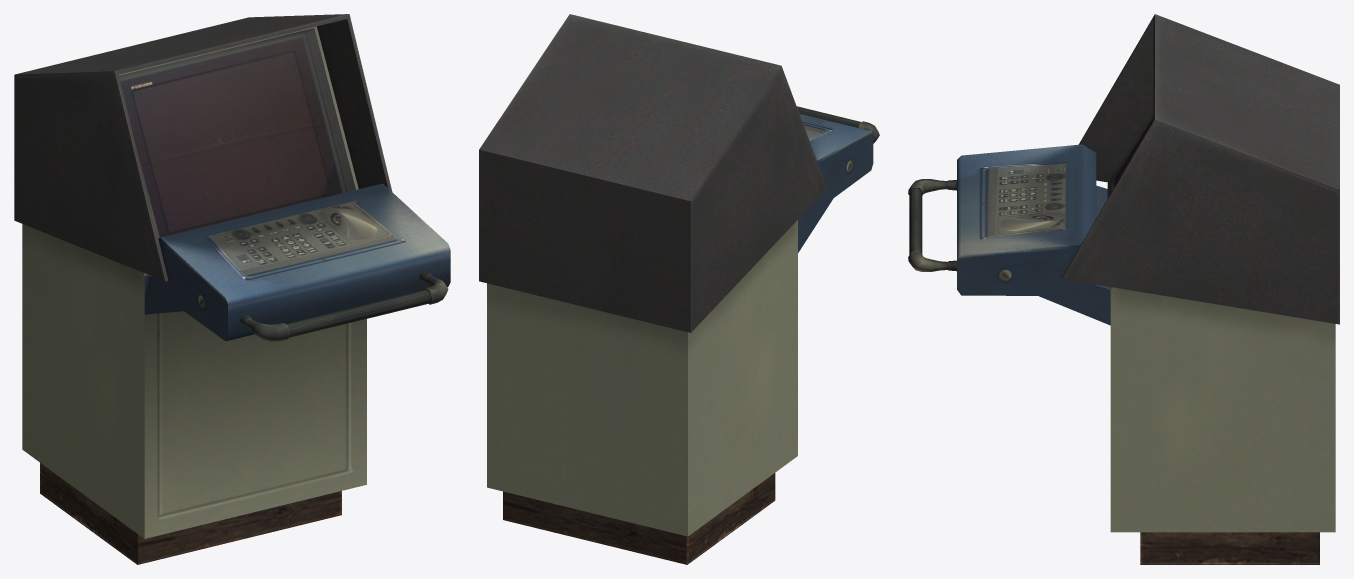
File: Machine01.FBX
3 renders of one model, left to right at view 1: azimuth 30°, elevation 25°; view 2: azimuth 150°, elevation 25°; view 3: azimuth 270°, elevation 25°, orthographic. The views are drawn at different scales.
Parts seen in each view (by area): view 1: Machine01; view 2: Machine01; view 3: Machine01.
Part boxes in pixels (bbox=[...]): Machine01: bbox=[14, 14, 450, 564]; Machine01: bbox=[479, 14, 879, 564]; Machine01: bbox=[908, 14, 1339, 564].
Bounding box in the file's own units: 0.6328 × 1.27 × 1.09.
